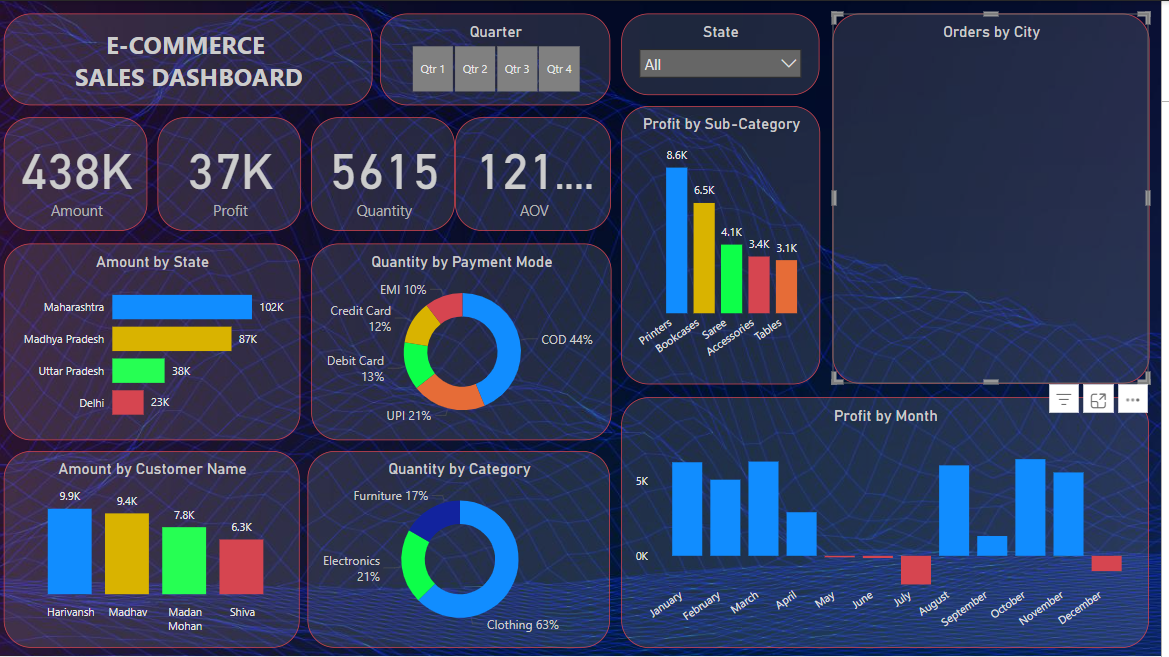

The dashboard page shown, as its layout file describes it:
{"tool":"powerbi","page":{"name":"Page 1","canvas":[1280,720],"ordinal":0},"visuals":[{"type":"textbox","box":[9.9,14.2,404.7,100.8],"z":0},{"type":"columnChart","fields":{"Y":["Details.Profit"],"Category":["Orders.Order Date.Variation.Date Hierarchy.Month"]},"box":[687.3,434.6,579.4,275.5],"z":1000},{"type":"columnChart","fields":{"Category":["Details.Sub-Category"],"Y":["Details.Profit"]},"box":[687.3,115,218.7,305.3],"z":2000},{"type":"donutChart","fields":{"Category":["Details.Category"],"Y":["Details.Quantity"]},"box":[343.7,494.2,332.3,215.9],"z":3000},{"type":"donutChart","fields":{"Y":["Details.Quantity"],"Category":["Details.PaymentMode"]},"box":[346.5,265.6,329.5,215.9],"z":4000},{"type":"card","fields":{"Values":["Details.Amount"]},"box":[9.9,127.8,157.6,125],"z":5000},{"type":"card","fields":{"Values":["Details.Profit"]},"box":[178.5,127.8,157.6,125],"z":6000},{"type":"card","fields":{"Values":["Details.Quantity"]},"box":[347,127.8,157.6,125],"z":7000},{"type":"card","fields":{"Values":["Details.AOV"]},"box":[505,127.6,171.5,124.9],"z":8000},{"type":"barChart","fields":{"Category":["Orders.State"],"Y":["Details.Amount"]},"box":[9.9,265.6,325.2,215.9],"z":9000},{"type":"columnChart","fields":{"Category":["Orders.Customer Name"],"Y":["Details.Amount"]},"box":[10,494.2,325,216],"z":10000},{"type":"slicer","title":"Quarter","fields":{"Values":["Orders.Order Date.Variation.Date Hierarchy.Quarter"]},"box":[423.2,14.2,252.8,100.8],"z":11000},{"type":"slicer","title":"State","fields":{"Values":["Orders.State"]},"box":[687.3,14.2,217.3,89.5],"z":12000},{"type":"map","title":"Orders by City","fields":{"Category":["Orders.City"],"Size":["Orders.Order ID"]},"box":[918.8,14.2,347.9,406.2],"z":13000}]}

Visuals, with their boxes in screenshot pixels (x1, y1, x2, y2), scaled from the page's 1280x720 canvas onto the 1169x657 screenshot:
textbox: bbox=[9, 13, 379, 105]
columnChart - Details.Profit x Orders.Order Date.Variation.Date Hierarchy.Month: bbox=[628, 397, 1157, 648]
columnChart - Details.Sub-Category x Details.Profit: bbox=[628, 105, 827, 384]
donutChart - Details.Category x Details.Quantity: bbox=[314, 451, 617, 648]
donutChart - Details.Quantity x Details.PaymentMode: bbox=[316, 242, 617, 439]
card - Details.Amount: bbox=[9, 117, 153, 231]
card - Details.Profit: bbox=[163, 117, 307, 231]
card - Details.Quantity: bbox=[317, 117, 461, 231]
card - Details.AOV: bbox=[461, 116, 618, 230]
barChart - Orders.State x Details.Amount: bbox=[9, 242, 306, 439]
columnChart - Orders.Customer Name x Details.Amount: bbox=[9, 451, 306, 648]
"Quarter" slicer: bbox=[387, 13, 617, 105]
"State" slicer: bbox=[628, 13, 826, 95]
"Orders by City" map: bbox=[839, 13, 1157, 384]
